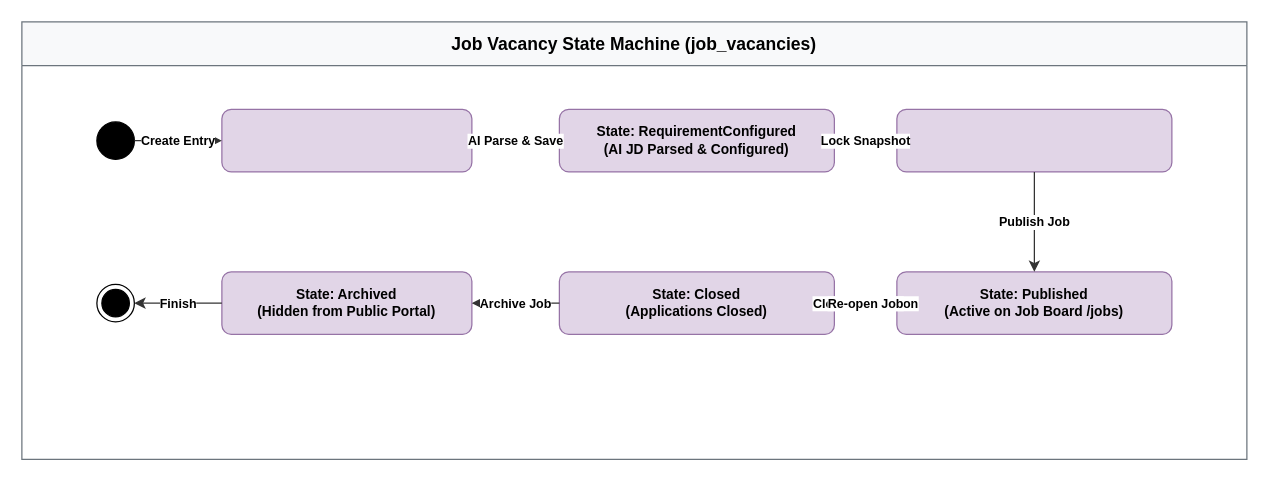
Some shapes in this 1269 by 481 pixel diagram are drawn without their labels. Here are the shapes that lost their labels. From the top down, the centre of each, then its label:
the point at 346,140: State: Draft (Raw JD Soạn thảo thô)
the point at 1034,140: State: SnapshotCreated (Requirement Snapshot Locked)
